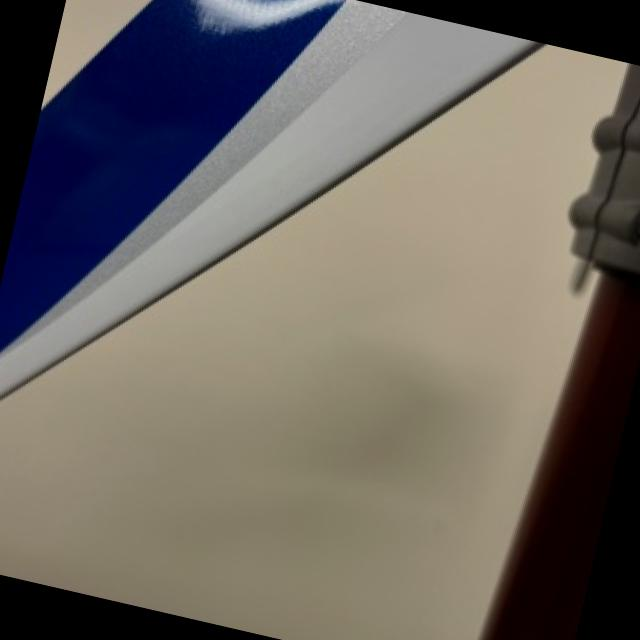healthy: (0, 44, 625, 640), (0, 0, 544, 397)
